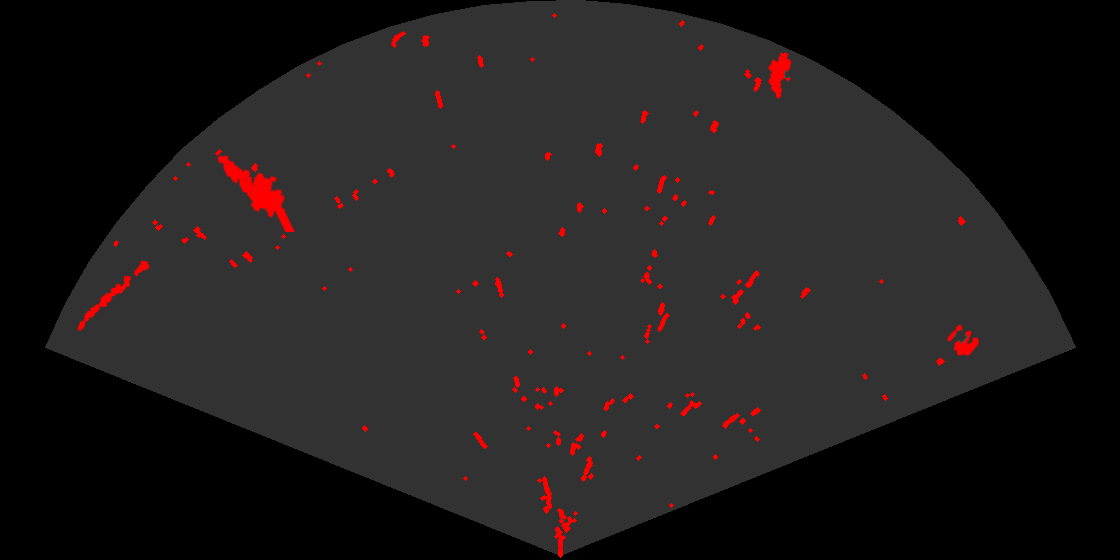AUV: (767, 50, 793, 101)
ball: (945, 323, 981, 358)
chain: (76, 259, 151, 332)
frogman: (216, 153, 297, 232)
